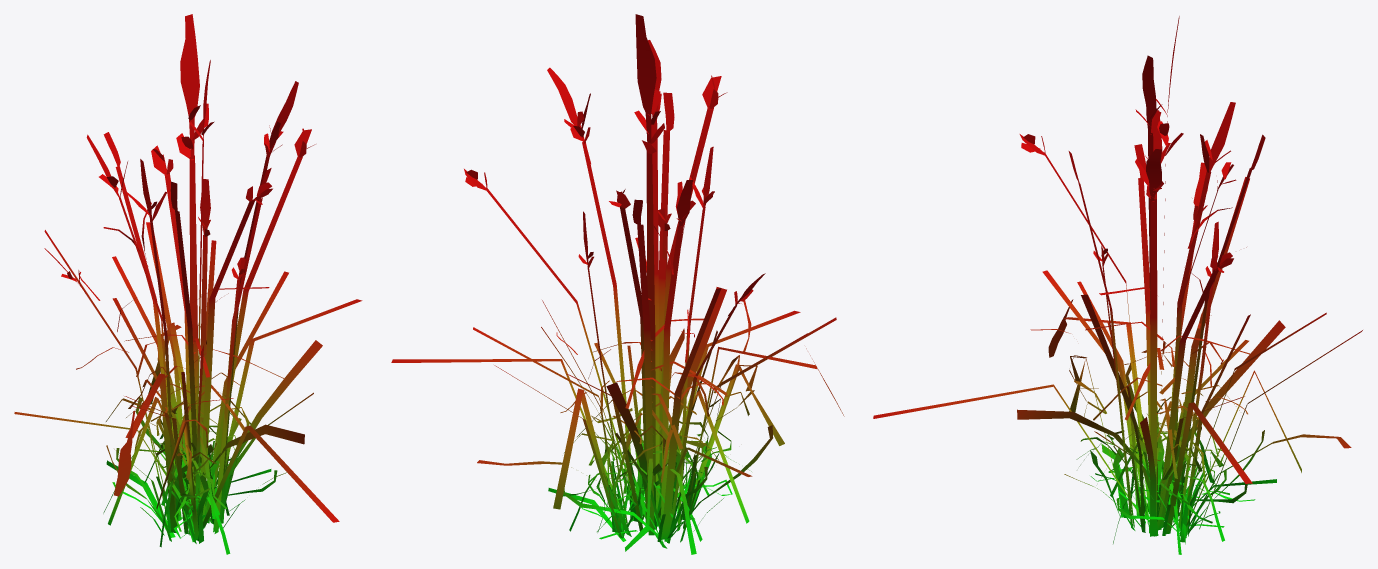
Rendered from Var1_LOD2.fbx.
3 views of the same model, side by side, from view 1: azimuth 30°, elevation 25°; view 2: azimuth 150°, elevation 25°; view 3: azimuth 270°, elevation 25° (orthographic). The views are drawn at different scales.
Visible parts, largest first — view 1: _c46d_Var1_LOD2; view 2: _c46d_Var1_LOD2; view 3: _c46d_Var1_LOD2.
Part boxes in pixels (left/top/right/bottom): _c46d_Var1_LOD2: left=14, top=14, right=362, bottom=554; _c46d_Var1_LOD2: left=391, top=14, right=844, bottom=554; _c46d_Var1_LOD2: left=873, top=16, right=1362, bottom=554.
Size of the model in its own units: 79.46 by 113 by 95.3.
